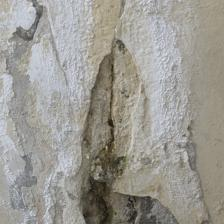Crack: (16, 36, 111, 147), (0, 87, 107, 124)
